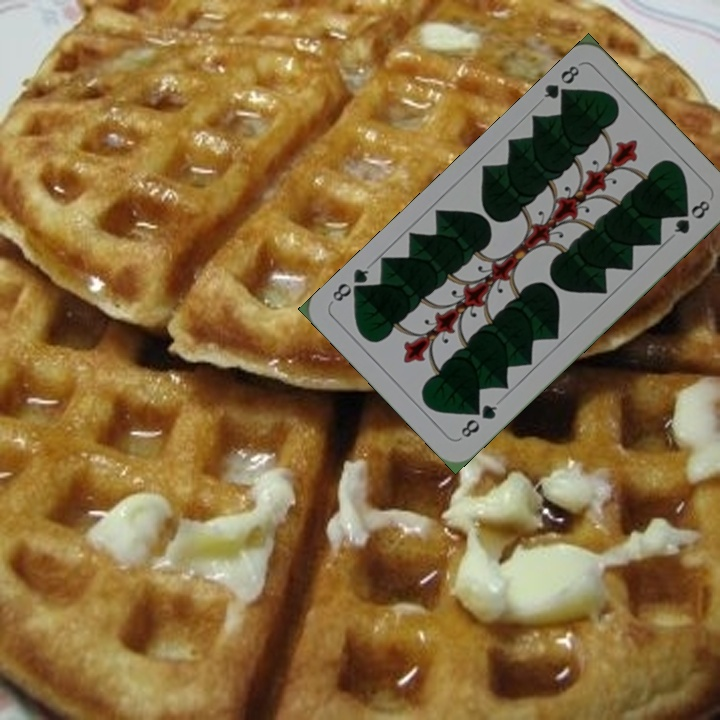G8: (539, 61, 582, 106), (456, 400, 500, 441)
